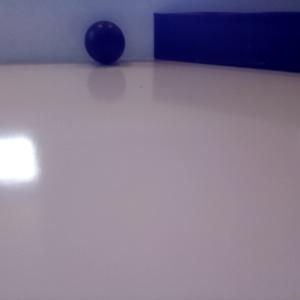zone: (153, 11, 300, 73)
